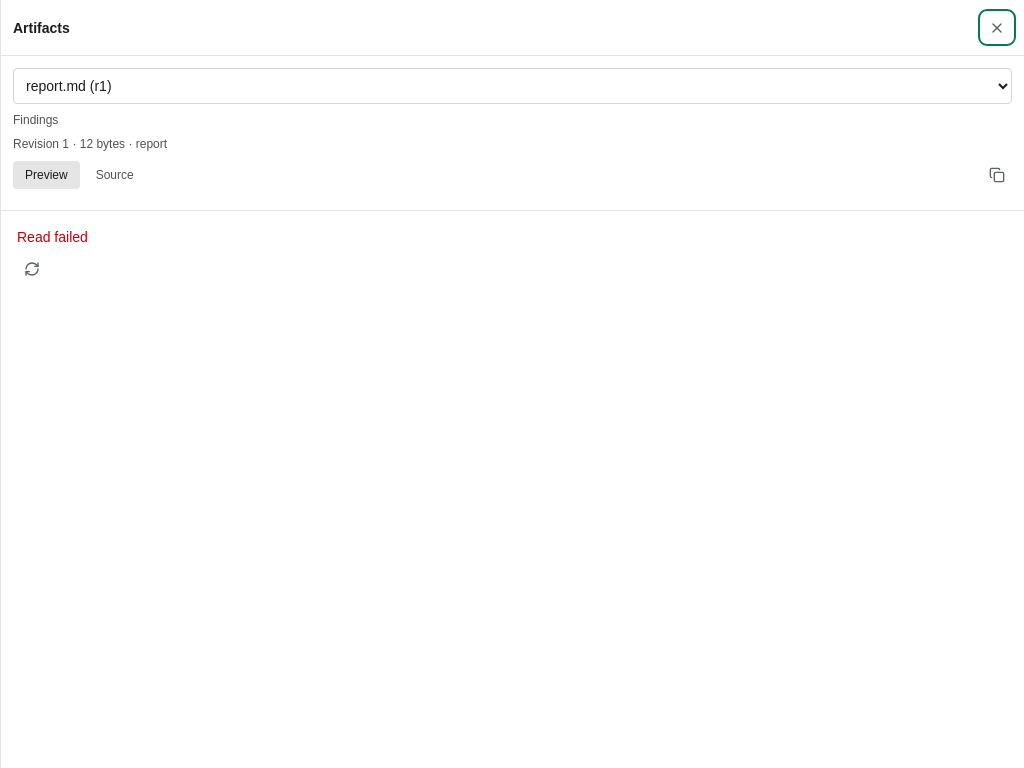
ArtifactWorkspace › reports load and clipboard errors without claiming success
Expected: the text "Read failed" is shown, [17,229,88,245]
Click the button named "Retry loading artifact". click: (32, 269)
box: [17,255,47,284]
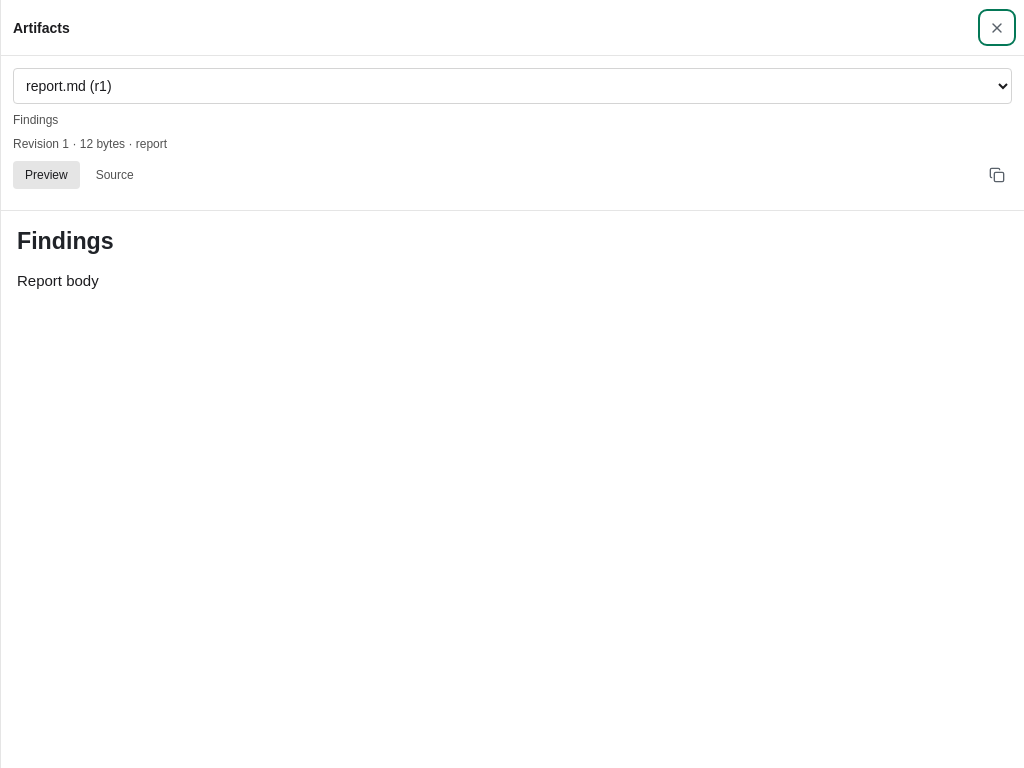
Expected: the heading "Findings" is shown, [17,228,114,254]
Click the button named "Copy artifact". click: (997, 175)
box: [982,160,1012,190]
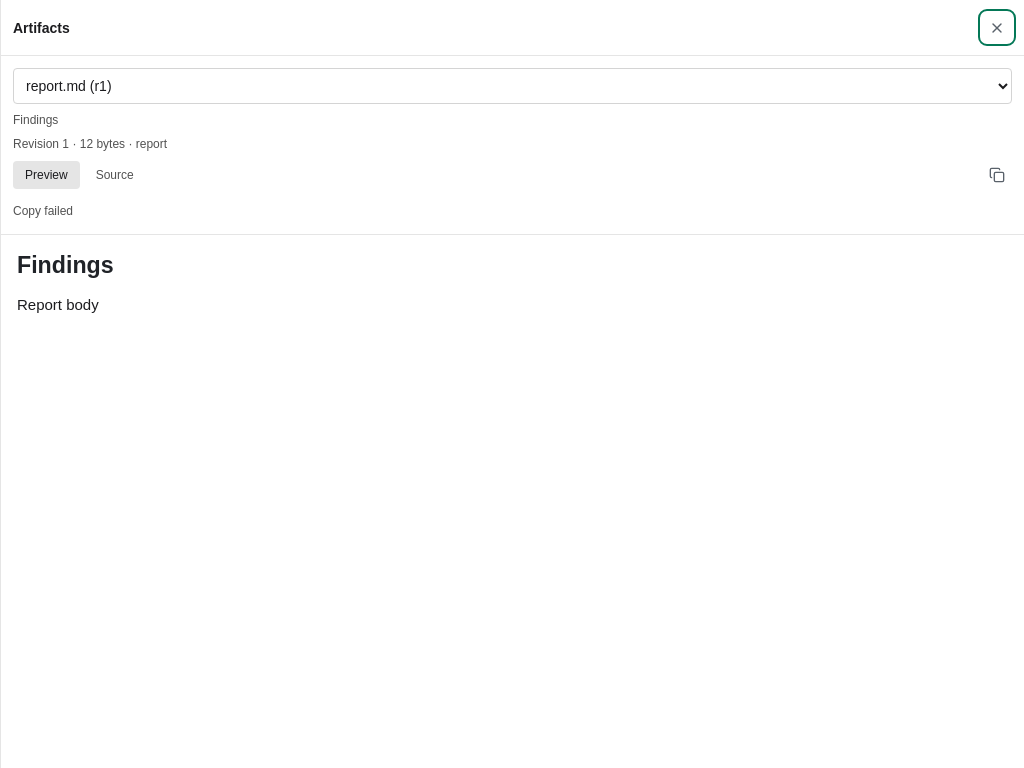
Expected: the text "Copy failed" is shown, [13,204,73,218]
